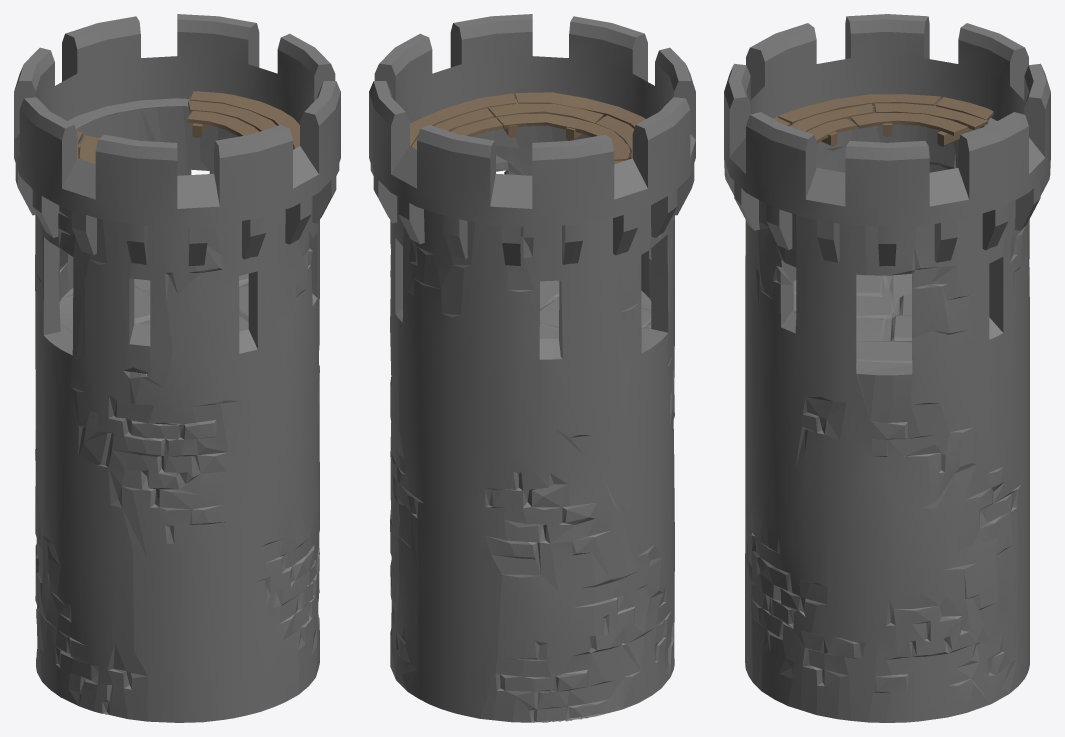
The model's file is castle_round_tower_a2.FBX.
The picture shows the model from 3 angles, left to right: view 1: azimuth 30°, elevation 25°; view 2: azimuth 150°, elevation 25°; view 3: azimuth 270°, elevation 25°; orthographic projection.
Parts seen in each view (by area): view 1: castle_round_tower_a2; view 2: castle_round_tower_a2; view 3: castle_round_tower_a2.
Boxes of the visible parts, <box> form: castle_round_tower_a2: <box>14,14,340,722</box>; castle_round_tower_a2: <box>369,14,695,722</box>; castle_round_tower_a2: <box>724,14,1050,722</box>.
Bounding box in the file's own units: 6.81 × 13.37 × 6.81.
